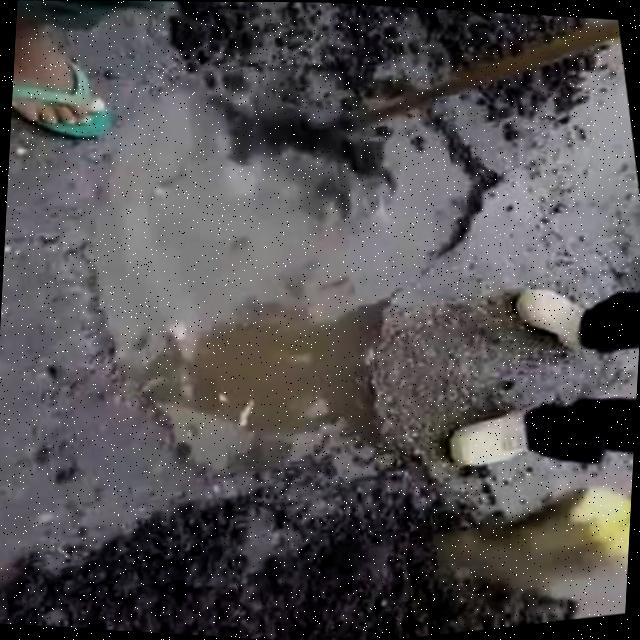Pothole: (41, 22, 571, 525)
